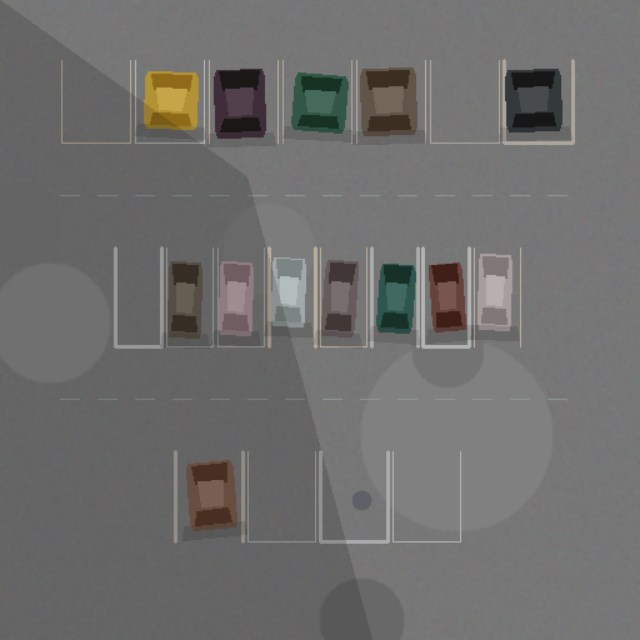space-empty: (247, 451, 315, 541), (320, 451, 387, 541), (393, 451, 460, 541), (61, 60, 130, 142), (430, 60, 499, 142), (115, 247, 161, 346)
space-occupied: (175, 451, 243, 541), (135, 60, 204, 142), (209, 60, 278, 142), (282, 60, 351, 142), (356, 60, 425, 142), (504, 60, 572, 142), (371, 247, 418, 346), (422, 247, 469, 346), (166, 247, 212, 346), (218, 247, 264, 346), (269, 247, 315, 346), (320, 247, 366, 346), (474, 247, 520, 346)
